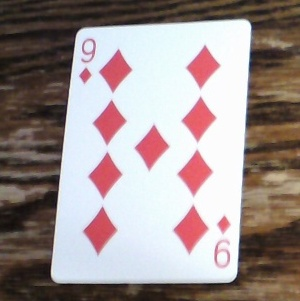card: (49, 16, 251, 285)
